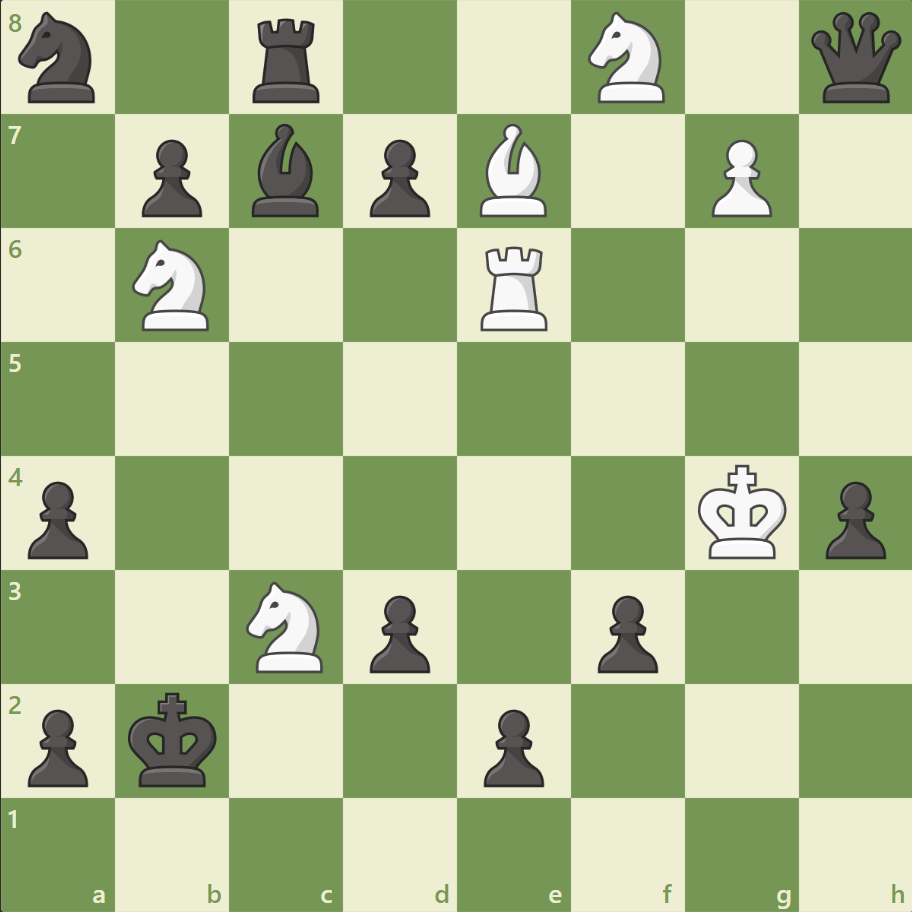B: (471, 120, 555, 222)
K: (692, 458, 792, 566)
N: (124, 234, 222, 337), (579, 7, 676, 110), (238, 575, 335, 677)
P: (701, 132, 776, 223)
R: (473, 239, 556, 336)
b: (244, 120, 328, 222)
k: (124, 685, 224, 793)
n: (11, 7, 108, 110)
p: (133, 132, 208, 223), (20, 473, 95, 564), (20, 700, 95, 791), (474, 700, 549, 791), (361, 132, 435, 223), (815, 473, 889, 564), (361, 586, 435, 677), (588, 586, 662, 677)
q: (805, 9, 904, 108)
r: (246, 12, 329, 109)
